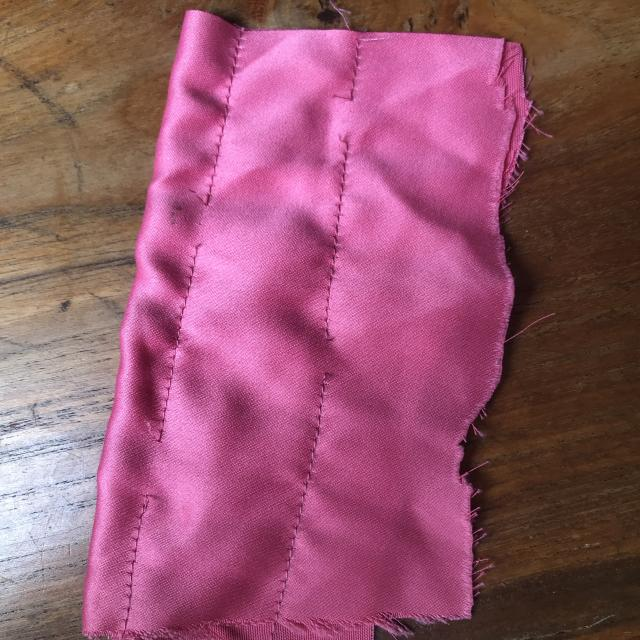broken: (175, 180, 228, 270), (321, 84, 375, 168), (306, 310, 360, 387), (138, 414, 177, 518)
